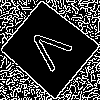V: (24, 23, 81, 79)
